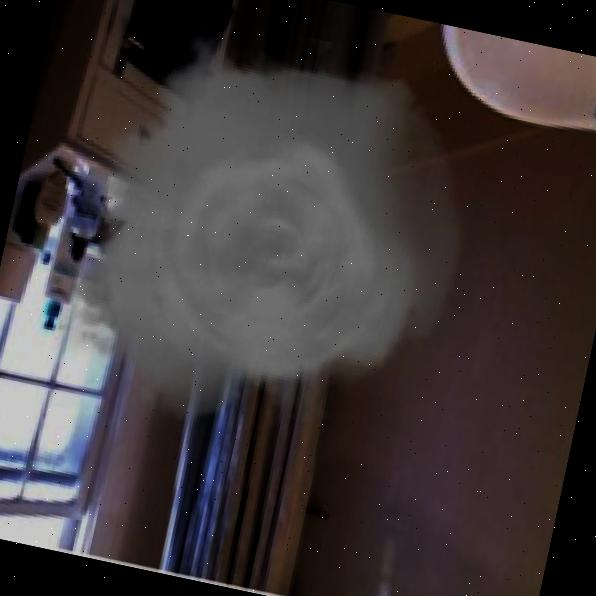smoke: (39, 0, 500, 483)
